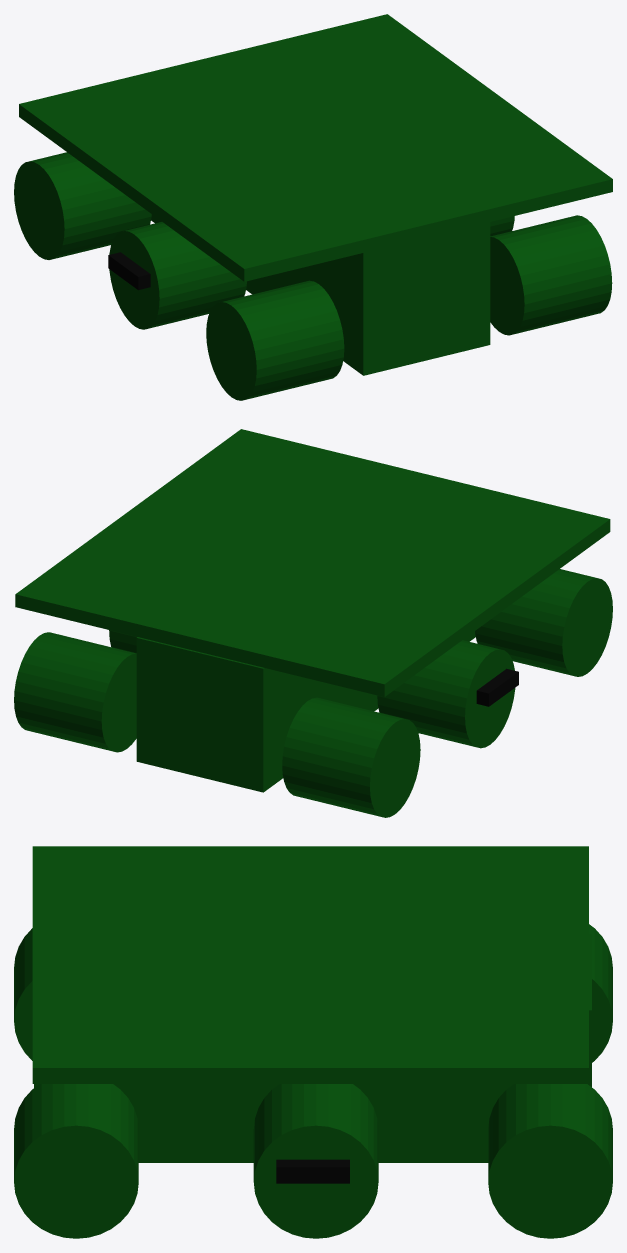
Rendered from tankBody.gltf.
The picture shows the model from 3 angles, top to bottom: view 1: azimuth 30°, elevation 25°; view 2: azimuth 150°, elevation 25°; view 3: azimuth 270°, elevation 25°; orthographic projection. The views are drawn at different scales.
Parts seen in each view (by area): view 1: Cube.003, Cylinder, Cube.002, Cylinder.001, Cube; view 2: Cube.003, Cylinder, Cube.002, Cylinder.001, Cube; view 3: Cube.003, Cylinder.001, Cube.002, Cylinder, Cube.001.
Part boxes in pixels (x1,y1,x2,y2): Cube.003: (19,14,612,281); Cylinder: (14,152,344,400); Cube.002: (151,214,490,375); Cylinder.001: (490,215,612,335); Cube: (108,252,150,290); Cube.003: (15,429,610,696); Cylinder: (282,569,612,817); Cube.002: (136,631,475,792); Cylinder.001: (14,630,136,752); Cube: (476,668,518,706); Cube.003: (32,846,588,1083); Cylinder.001: (14,1084,612,1238); Cube.002: (34,934,591,1162); Cylinder: (14,924,612,1062); Cube.001: (276,1159,349,1183).
Size of the model in its own units: 8.67 by 3.11 by 9.6.
